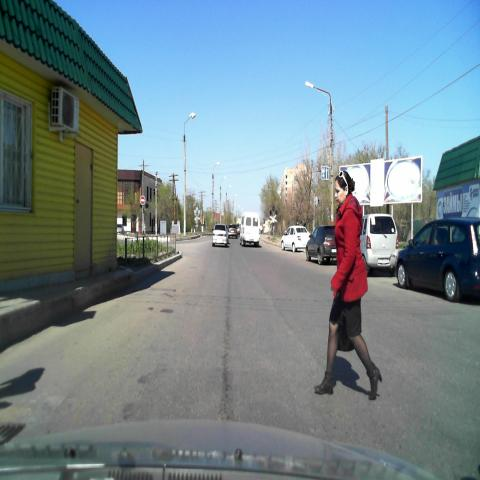3_1: (140, 194, 146, 206)
5_11: (320, 167, 328, 179)
